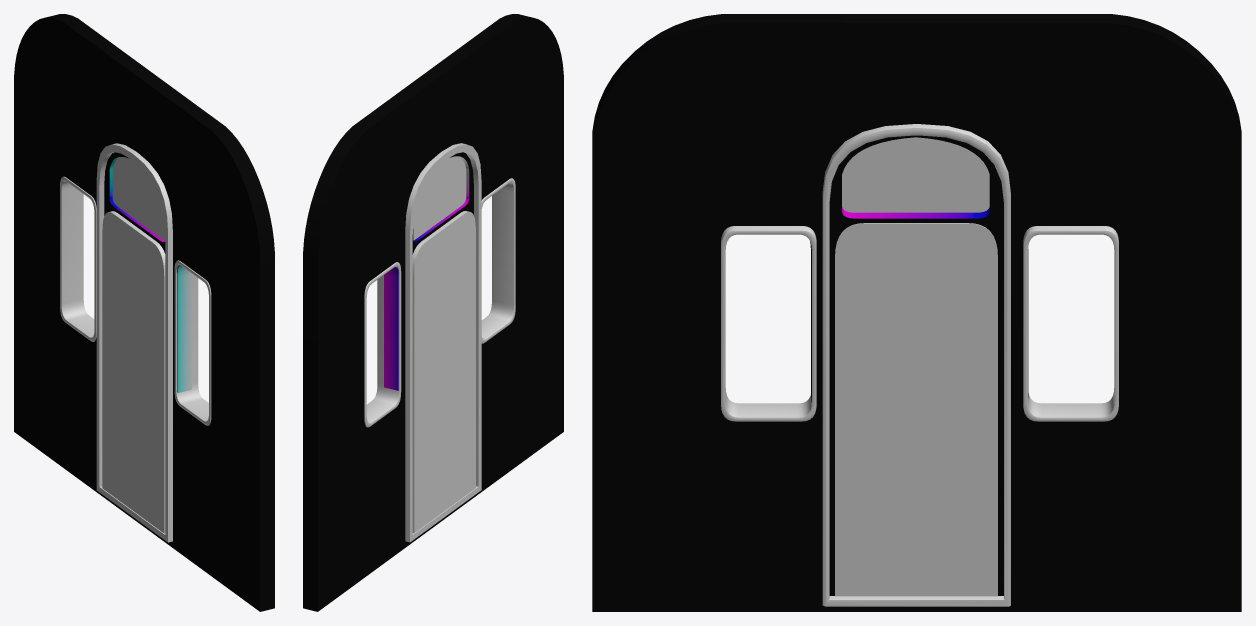
File: ParedPuertaPequeña.fbx
3 views of the same model, side by side, from view 1: azimuth 30°, elevation 25°; view 2: azimuth 150°, elevation 25°; view 3: azimuth 270°, elevation 25° (orthographic). The views are drawn at different scales.
Visible parts, largest first — view 1: BaseParedPuertaVagonLau002, PuertaPequeña004, Box047, Box042, VentanaPuertaPequeña2, Box046; view 2: BaseParedPuertaVagonLau002, PuertaPequeña004, Box047, Box046, VentanaPuertaPequeña2, Box042; view 3: BaseParedPuertaVagonLau002, PuertaPequeña004, Box047, VentanaPuertaPequeña2, Box042, Box046.
Part boxes in pixels (box(x1,y1,x2,y2)): BaseParedPuertaVagonLau002: box(14, 14, 274, 611); PuertaPequeña004: box(102, 211, 165, 533); Box047: box(96, 143, 172, 542); Box042: box(60, 176, 96, 341); VentanaPuertaPequeña2: box(112, 157, 165, 240); Box046: box(174, 260, 211, 425); BaseParedPuertaVagonLau002: box(303, 14, 563, 611); PuertaPequeña004: box(412, 211, 475, 532); Box047: box(405, 143, 481, 542); Box046: box(481, 178, 515, 343); VentanaPuertaPequeña2: box(413, 156, 466, 240); Box042: box(364, 262, 401, 427); BaseParedPuertaVagonLau002: box(592, 14, 1241, 611); PuertaPequeña004: box(835, 223, 997, 596); Box047: box(822, 124, 1010, 606); VentanaPuertaPequeña2: box(842, 137, 989, 212); Box042: box(1023, 226, 1118, 421); Box046: box(721, 226, 816, 421).
Bounding box in the file's own units: 24.97 × 400 × 400.
